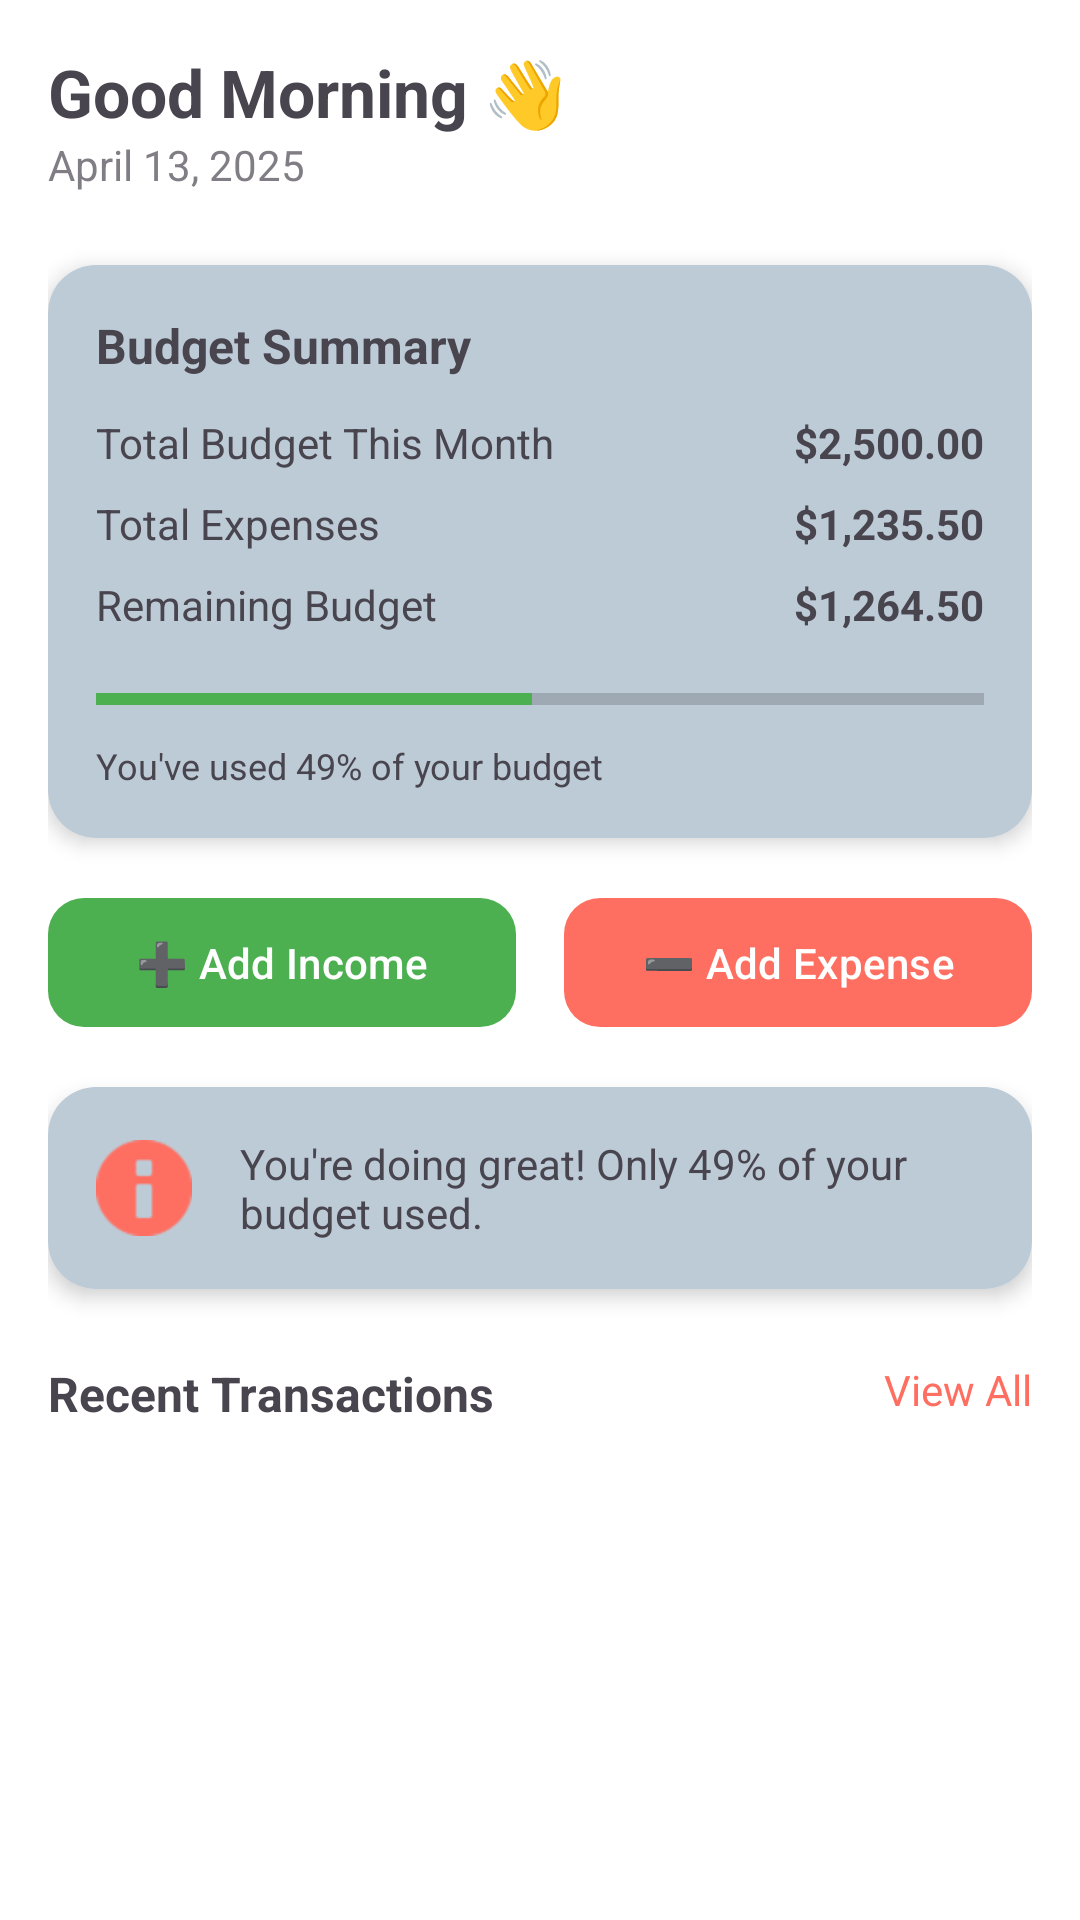

Screen size 1080*1920. Icon name, then its box in pixels as (x1, y1, x2, y2):
info: (96, 1140, 192, 1236)
